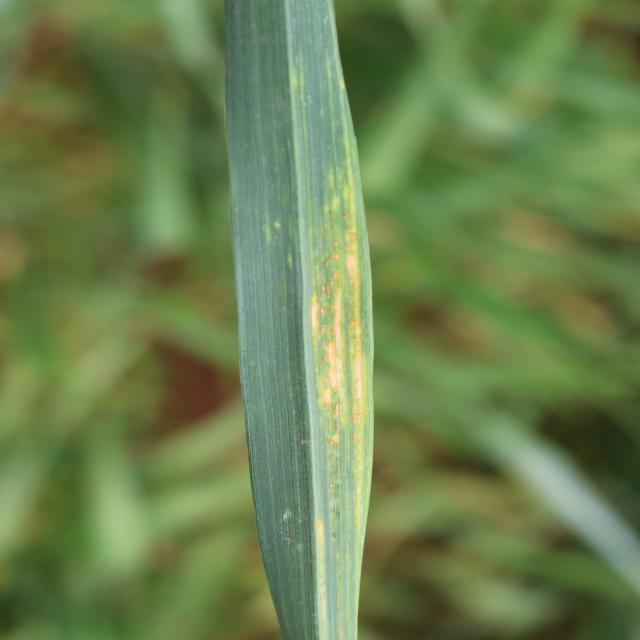Stripe Rust: (310, 234, 368, 476)
